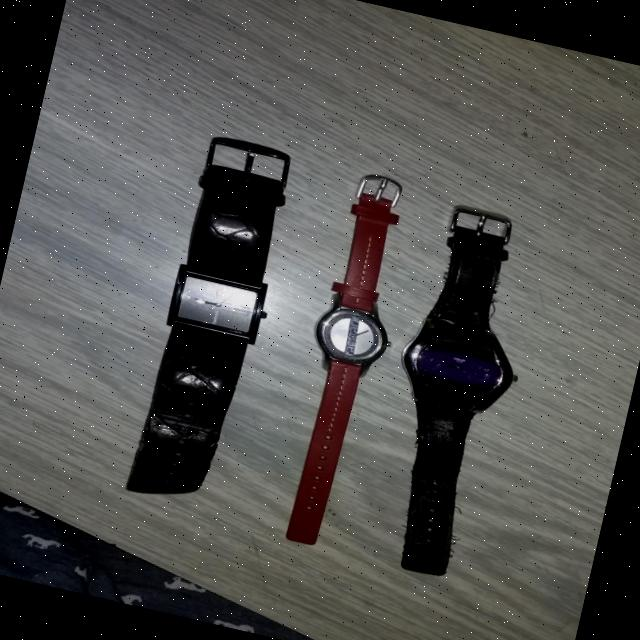Wrist watch: (358, 200, 555, 586), (123, 130, 305, 510), (264, 168, 420, 552)
